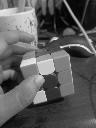rubik: (20, 44, 74, 104)
